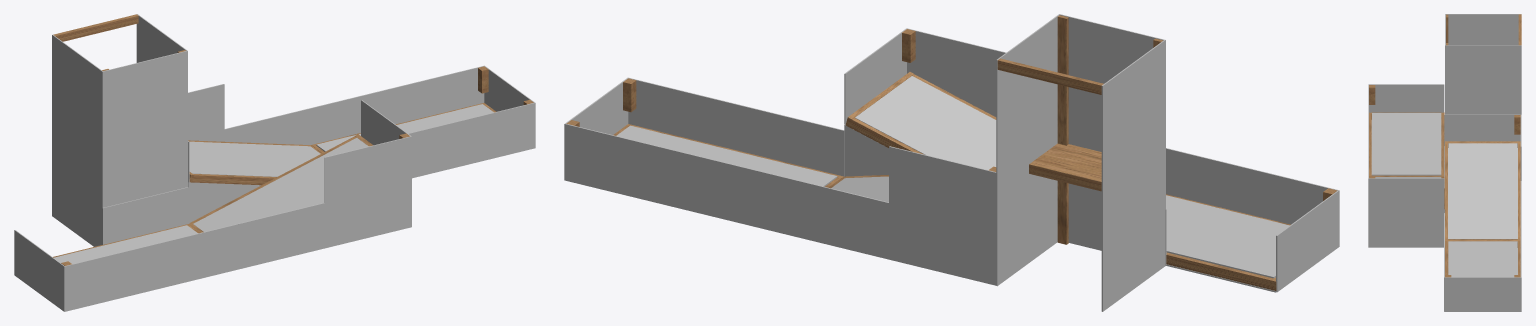
The model's file is TER1.dae.
3 views of the same model, side by side, from view 1: azimuth 30°, elevation 25°; view 2: azimuth 150°, elevation 25°; view 3: azimuth 270°, elevation 25° (orthographic). The views are drawn at different scales.
Parts seen in each view (by area): view 1: Programmiereck hoch 1, Programmiereck hoch 3, Längstwand lang 2 flach a, Längstwand lang 2 hoch, Längstwand lang 1 flach a, Längstwand lang 1 flach c, Sand Kies 2, Längstwand lang 2 flach b, Sand Kies 3, Längstwand lang 2 flach c, Abschlusswand Ende 2, Längstwand lang 1 flach b (+10 smaller); view 2: Programmiereck hoch 3, Programmiereck hoch 2, Längstwand lang 1 flach a, Längstwand lang 1 hoch, Längstwand lang 1 flach c, Programmiereck hoch 1, Sand Kies 2, Längstwand lang 2 flach a, Sand Kies 1, Längstwand lang 1 flach b, Längstwand lang 2 hoch, Abschlusswand Ende 2 (+10 smaller); view 3: Sand Kies 3, Programmiereck hoch 2, Abschlusswand Mitte hoch 2, Sand Kies 1, Abschlusswand Ende 1, Sand Kies 4, Programmiereck hoch 3, Abschlusswand Ende 2, Abschlusswand Mitte hoch 1, Innenbalken lang 1 d, Innenbalken lang 1 c, Innenbalken lang 2 b (+12 smaller).
Part boxes in pixels (<box>): Programmiereck hoch 1: <box>102,51,187,244</box>; Programmiereck hoch 3: <box>52,34,102,246</box>; Längstwand lang 2 flach a: <box>65,224,238,311</box>; Längstwand lang 2 hoch: <box>324,136,411,248</box>; Längstwand lang 1 flach a: <box>311,66,484,144</box>; Längstwand lang 1 flach c: <box>408,102,534,178</box>; Sand Kies 2: <box>193,138,368,231</box>; Längstwand lang 2 flach b: <box>238,202,324,269</box>; Sand Kies 3: <box>189,141,320,176</box>; Längstwand lang 2 flach c: <box>102,187,188,244</box>; Abschlusswand Ende 2: <box>14,230,64,311</box>; Längstwand lang 1 flach b: <box>224,108,311,144</box>; Programmiereck hoch 3: <box>1101,40,1165,311</box>; Programmiereck hoch 2: <box>996,14,1059,286</box>; Längstwand lang 1 flach a: <box>565,124,781,233</box>; Längstwand lang 1 hoch: <box>889,146,996,285</box>; Längstwand lang 1 flach c: <box>628,78,844,176</box>; Programmiereck hoch 1: <box>1060,14,1165,265</box>; Sand Kies 2: <box>855,76,996,169</box>; Längstwand lang 2 flach a: <box>1166,148,1338,224</box>; Sand Kies 1: <box>1166,195,1289,278</box>; Längstwand lang 1 flach b: <box>781,176,888,259</box>; Längstwand lang 2 hoch: <box>907,28,1006,116</box>; Abschlusswand Ende 2: <box>1276,190,1339,292</box>; Sand Kies 3: <box>1448,143,1517,239</box>; Programmiereck hoch 2: <box>1445,45,1521,140</box>; Abschlusswand Mitte hoch 2: <box>1368,178,1444,247</box>; Sand Kies 1: <box>1372,113,1441,175</box>; Abschlusswand Ende 1: <box>1444,277,1521,311</box>; Sand Kies 4: <box>1448,241,1517,277</box>; Programmiereck hoch 3: <box>1446,14,1521,45</box>; Abschlusswand Ende 2: <box>1368,84,1444,112</box>; Abschlusswand Mitte hoch 1: <box>1444,114,1520,176</box>; Innenbalken lang 1 d: <box>1445,143,1447,240</box>; Innenbalken lang 1 c: <box>1518,143,1520,240</box>; Innenbalken lang 2 b: <box>1441,112,1444,176</box>.
Size of the model in its own units: 7.33 by 2.47 by 2.44.
